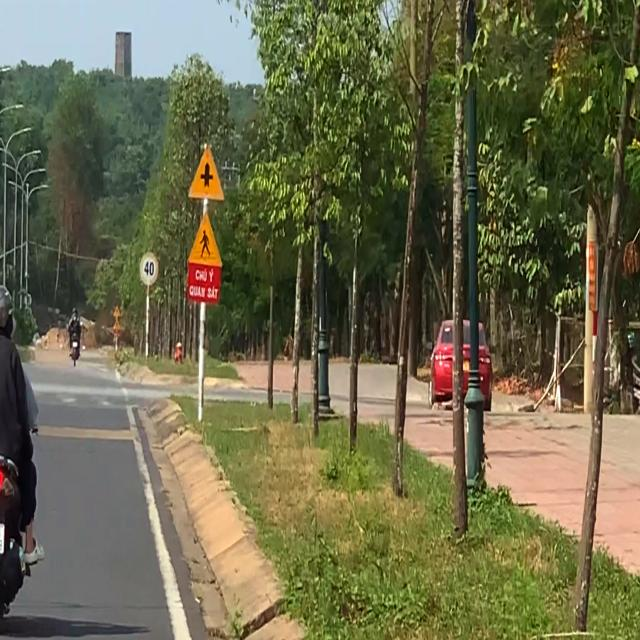Giao voi duong khong uu tien: (185, 140, 227, 206)
Nguoi di bo cat ngang: (186, 208, 225, 272)
Toc do toi da: (138, 250, 162, 286)
